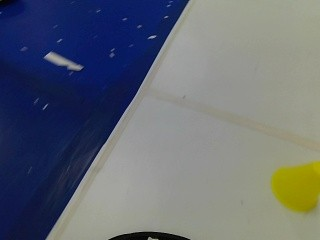cone: (271, 144, 318, 216)
